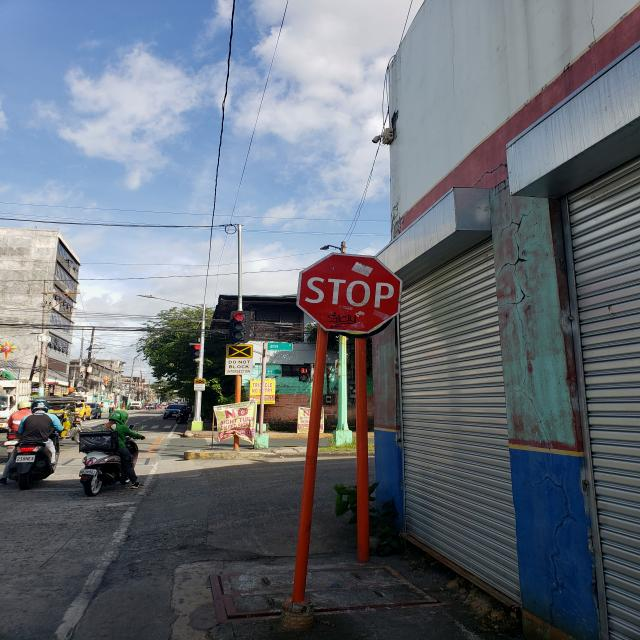stop-sign: (296, 252, 403, 334)
